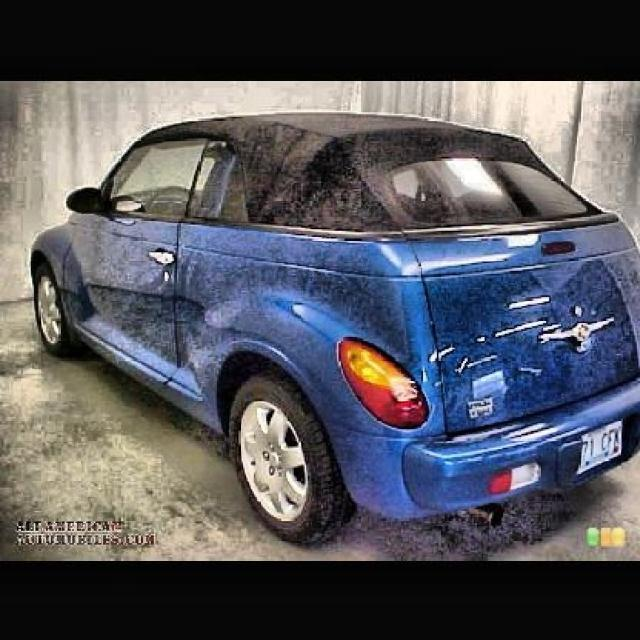blue: (33, 113, 640, 512)
